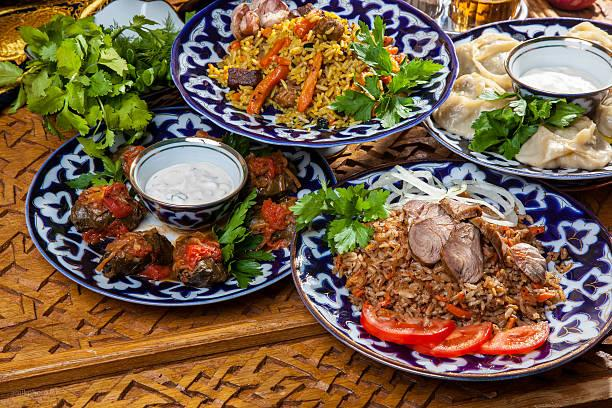Braised Crucian Carp: (293, 167, 600, 371), (21, 106, 320, 305), (165, 0, 464, 148), (415, 16, 612, 184)
